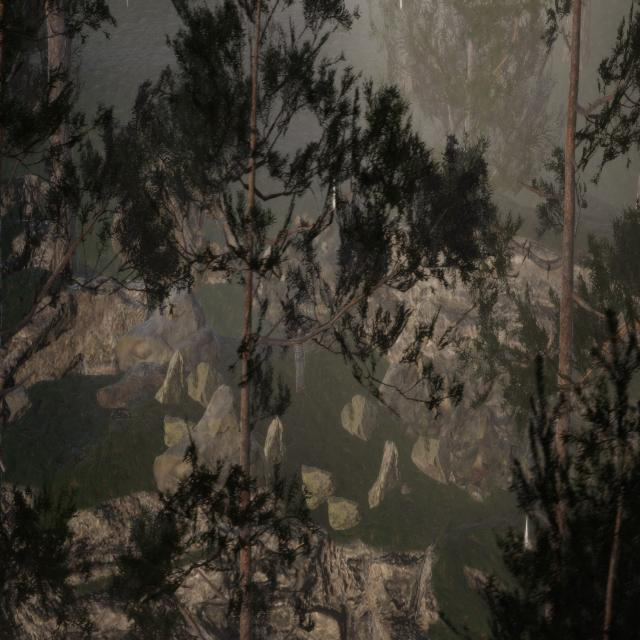Human: (283, 305, 307, 401)
